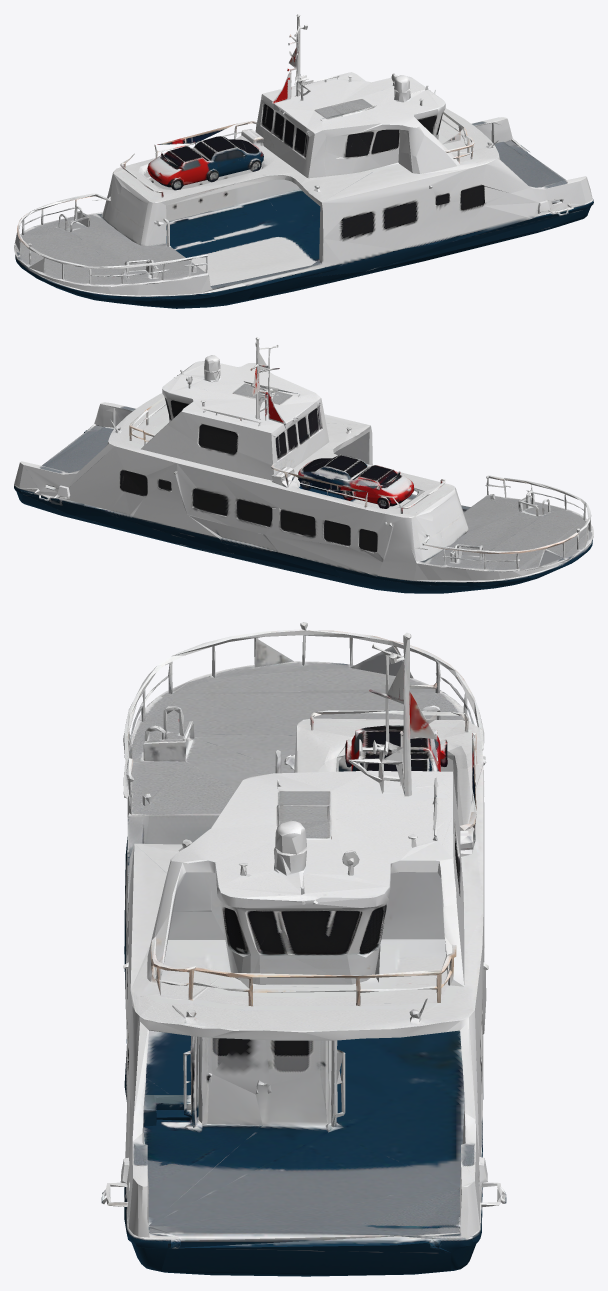
The picture shows the model from 3 angles, top to bottom: view 1: azimuth 30°, elevation 25°; view 2: azimuth 150°, elevation 25°; view 3: azimuth 270°, elevation 25°; orthographic projection. The views are drawn at different scales.
Size of the model in its own units: 1.9 by 0.7367 by 0.6289.
Materials: 1 (1 with a texture image).
